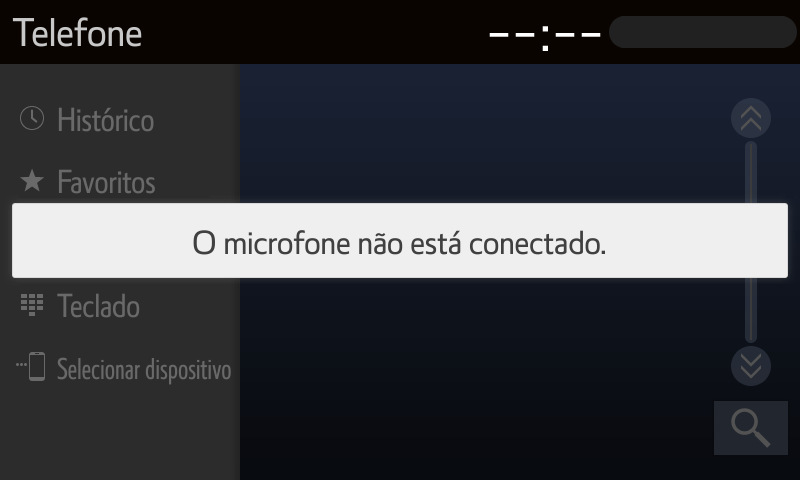untouchPart: (481, 10, 796, 57), (16, 346, 233, 384), (11, 13, 144, 53), (709, 401, 793, 463), (16, 289, 149, 328), (17, 163, 160, 197), (17, 105, 169, 135), (719, 343, 778, 389), (729, 93, 779, 141)
